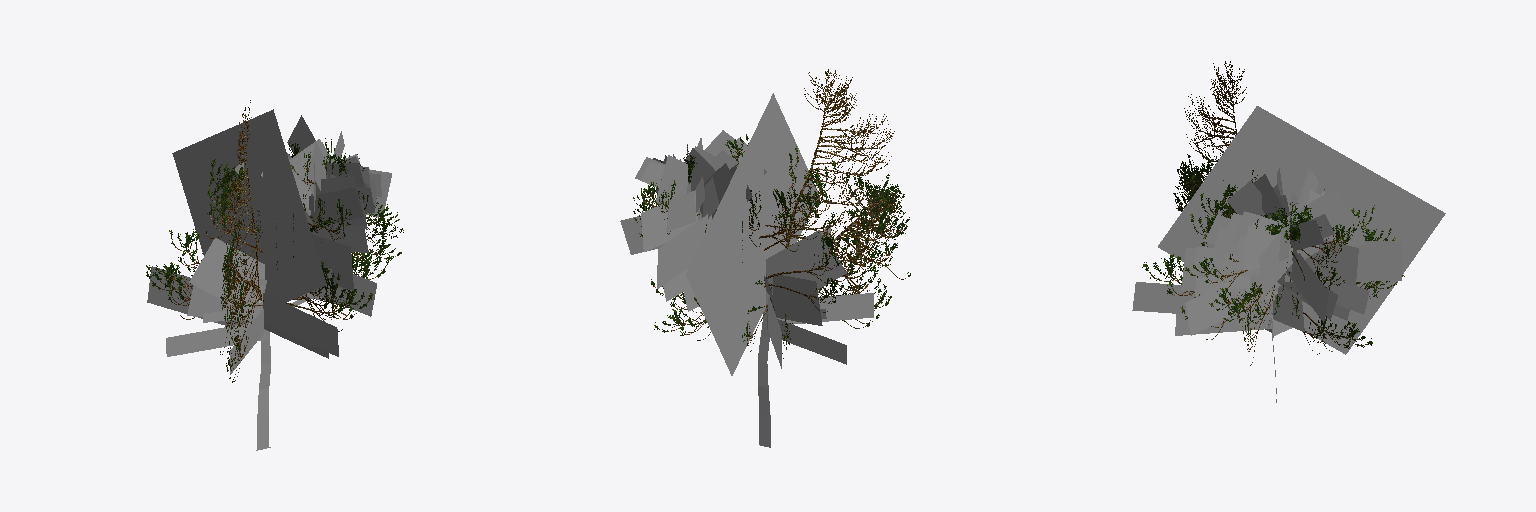
3 renders of one model, left to right at view 1: azimuth 30°, elevation 25°; view 2: azimuth 150°, elevation 25°; view 3: azimuth 270°, elevation 25°, orthographic.
Visible parts, largest first — view 1: 4.2.2004.1114; view 2: 4.2.2004.1114; view 3: 4.2.2004.1114.
Part boxes in pixels (x1,y1,x2,y2): 4.2.2004.1114: (146, 100, 403, 450); 4.2.2004.1114: (620, 69, 910, 447); 4.2.2004.1114: (1132, 61, 1445, 402).
Size of the model in its own units: 9.85 by 12.63 by 9.84.
6 materials, 3 textured.